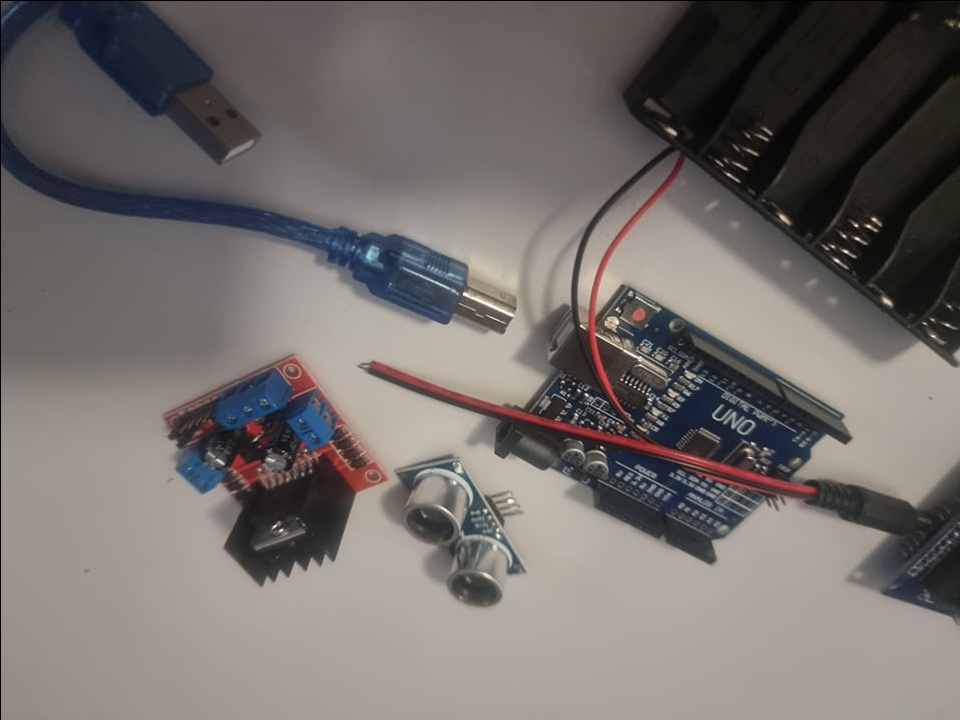BATTERY BOX: (619, 0, 959, 369)
MOTOR: (151, 351, 380, 595)
SENSOR: (392, 457, 525, 621)
UNO R3: (492, 282, 849, 565)
